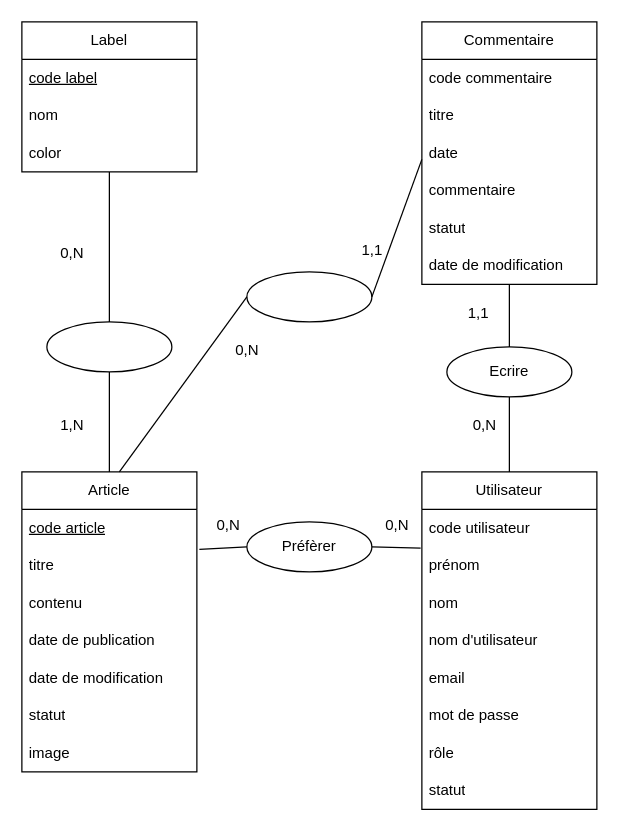
Image size: 619x831. Some labels were removed from this diagram. Here are the shapes that lost their labels. From the top down, the centre of each, then its label:
the point at 309,296: Commenter
the point at 109,346: Catégoriser
